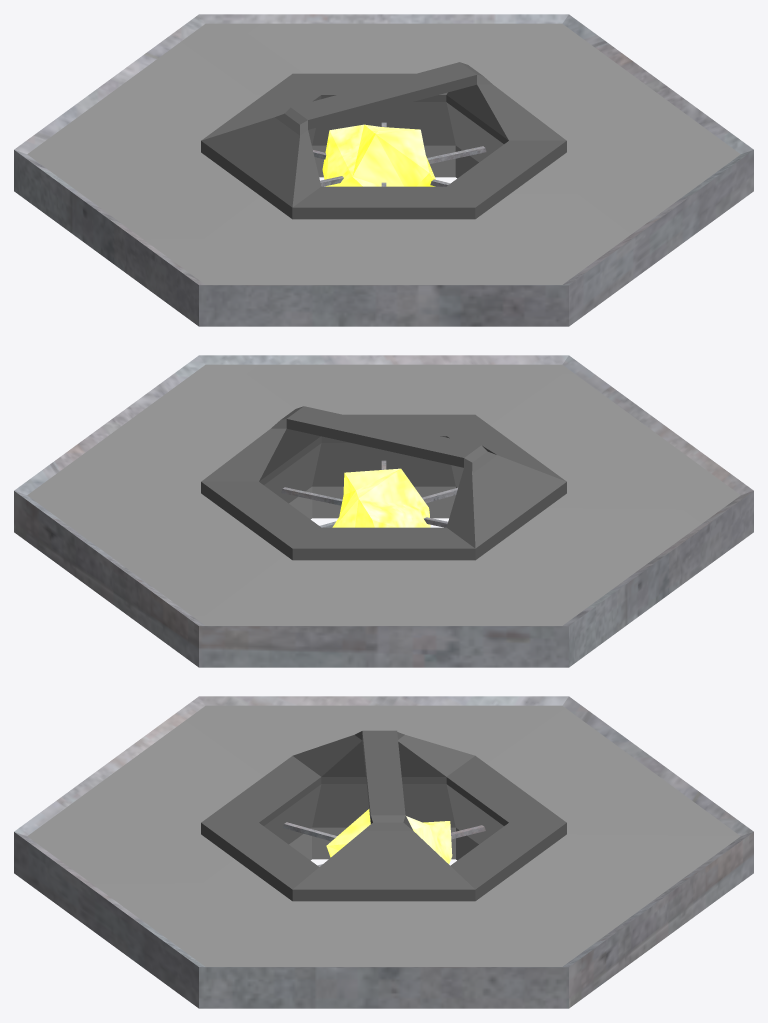
File: animal_company_-_hover_pad.glb
The picture shows the model from 3 angles, top to bottom: view 1: azimuth 30°, elevation 25°; view 2: azimuth 150°, elevation 25°; view 3: azimuth 270°, elevation 25°; orthographic projection.
Parts seen in each view (by area): view 1: Hoverpad_10, HoverpadView_2, Cube.001_8; view 2: Hoverpad_10, HoverpadView_2, Cube.001_8; view 3: Hoverpad_10, HoverpadView_2.
Boxes of the visible parts, x1=… form: Hoverpad_10: x1=14, y1=14, x2=753, y2=326; HoverpadView_2: x1=322, y1=124, x2=435, y2=186; Cube.001_8: x1=320, y1=146, x2=486, y2=186; Hoverpad_10: x1=14, y1=355, x2=753, y2=667; HoverpadView_2: x1=332, y1=468, x2=430, y2=527; Cube.001_8: x1=281, y1=487, x2=447, y2=527; Hoverpad_10: x1=14, y1=696, x2=753, y2=1008; HoverpadView_2: x1=326, y1=809, x2=452, y2=863.
Bounding box in the file's own units: 0.5388 × 0.1431 × 0.6222.
Materials: 6 (3 with a texture image).
